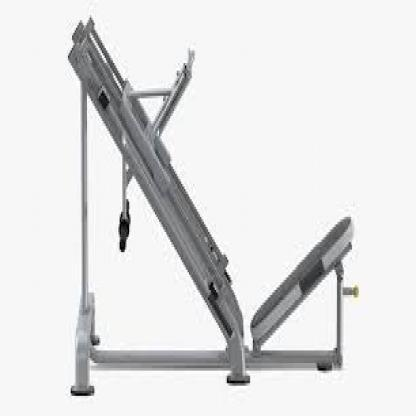leg press: (59, 13, 363, 396)
